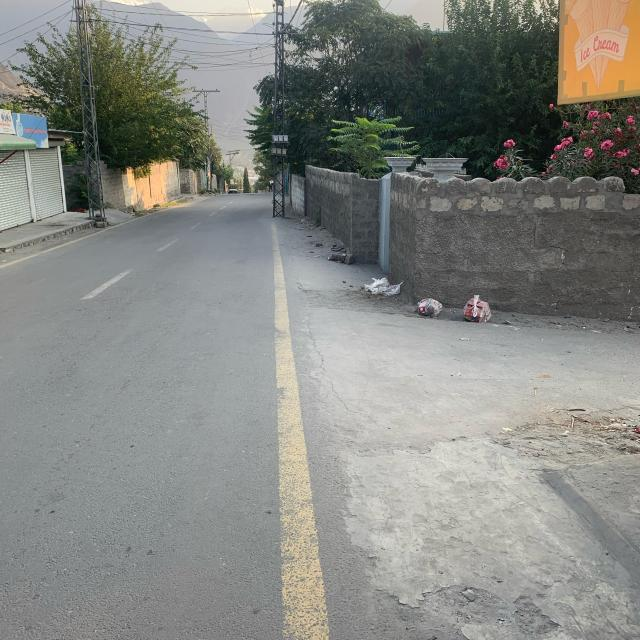Right-Turn: (254, 324, 444, 564)
straight: (24, 217, 266, 418)
